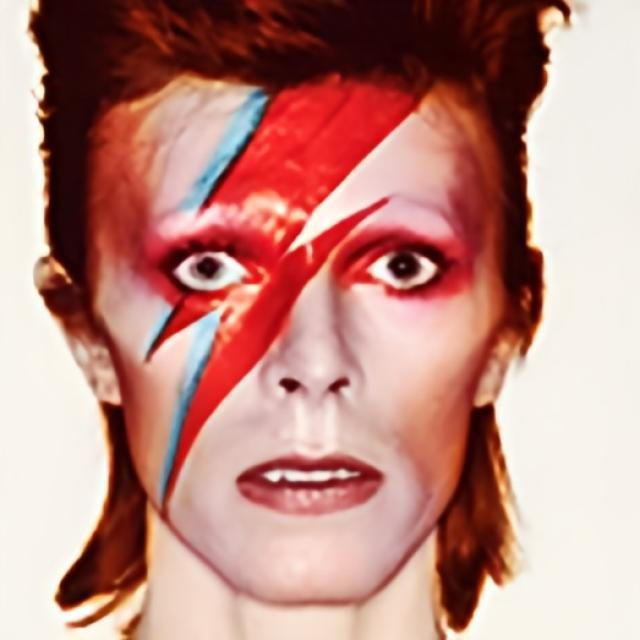fear: (82, 67, 508, 606)
